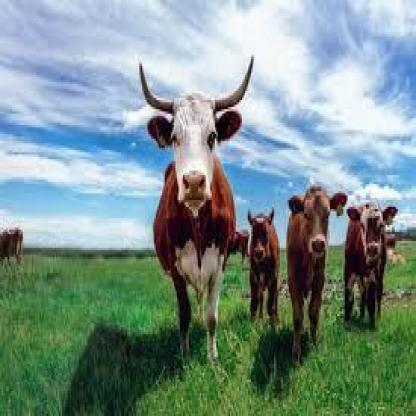cow: (138, 54, 254, 373), (286, 183, 346, 367), (344, 201, 397, 335), (247, 207, 281, 327), (223, 228, 250, 268), (0, 225, 23, 268)
